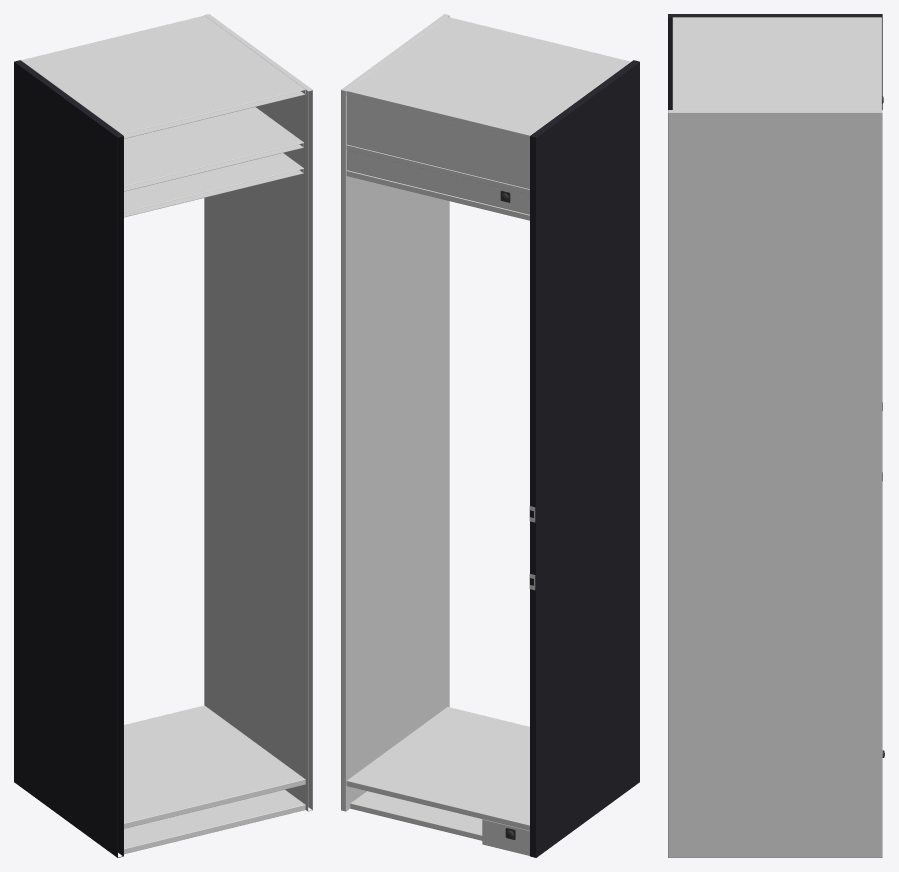
File: SM_Kitchen_03_Fridge.dae
The picture shows the model from 3 angles, left to right: view 1: azimuth 30°, elevation 25°; view 2: azimuth 150°, elevation 25°; view 3: azimuth 270°, elevation 25°; orthographic projection. The views are drawn at different scales.
Parts seen in each view (by area): view 1: SM_Kitchen_03_Fridge; view 2: SM_Kitchen_03_Fridge; view 3: SM_Kitchen_03_Fridge.
Part boxes in pixels (left/top/right/bottom): SM_Kitchen_03_Fridge: left=14, top=14, right=312, bottom=857; SM_Kitchen_03_Fridge: left=341, top=14, right=639, bottom=857; SM_Kitchen_03_Fridge: left=668, top=14, right=884, bottom=857.
Size of the model in its own units: 0.6039 by 0.5609 by 2.13.
